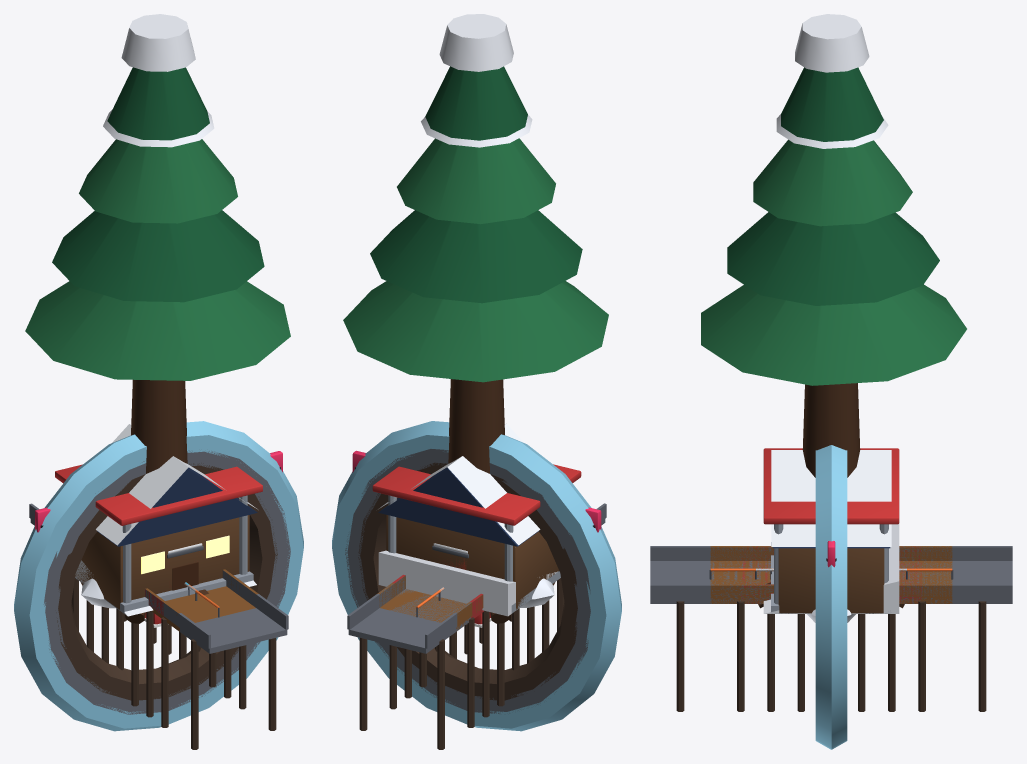
The model's file is props.glb.
3 views of the same model, side by side, from view 1: azimuth 30°, elevation 25°; view 2: azimuth 150°, elevation 25°; view 3: azimuth 270°, elevation 25° (orthographic).
Parts seen in each view (by area): view 1: tree_giant, tunnel_2, building_lodge, tunnel_0, tunnel_1, bridge_1, lift_station, bridge_0, bridge_2, snowbank_3; view 2: tree_giant, tunnel_2, building_lodge, tunnel_0, tunnel_1, bridge_1, bridge_0, ramp_3, lift_station, bridge_2, snowbank_3; view 3: tree_giant, bridge_1, building_lodge, tunnel_2, bridge_0, lift_station, bridge_2, ramp_3.
Boxes of the visible parts, <box> form: tree_giant: <box>25,14,290,623</box>; tunnel_2: <box>14,421,303,731</box>; building_lodge: <box>75,424,257,609</box>; tunnel_0: <box>43,450,290,714</box>; tunnel_1: <box>56,463,277,700</box>; bridge_1: <box>29,503,288,749</box>; lift_station: <box>55,464,262,613</box>; bridge_0: <box>71,569,258,727</box>; bridge_2: <box>86,589,231,717</box>; snowbank_3: <box>81,578,115,608</box>; tree_giant: <box>343,14,608,623</box>; tunnel_2: <box>332,421,621,731</box>; building_lodge: <box>378,423,559,609</box>; tunnel_0: <box>345,449,590,713</box>; tunnel_1: <box>358,462,577,700</box>; bridge_1: <box>347,503,606,749</box>; bridge_0: <box>377,575,564,727</box>; ramp_3: <box>378,550,557,616</box>; lift_station: <box>372,464,581,613</box>; bridge_2: <box>392,574,549,717</box>; snowbank_3: <box>520,578,554,607</box>; tree_giant: <box>701,14,966,608</box>; bridge_1: <box>650,546,1012,711</box>; building_lodge: <box>771,450,891,613</box>; tunnel_2: <box>815,445,847,749</box>; bridge_0: <box>710,546,952,711</box>; lift_station: <box>763,448,899,613</box>; bridge_2: <box>741,546,921,711</box>; ramp_3: <box>763,523,899,613</box>.
Size of the model in its own units: 22.4 by 51.8 by 24.
